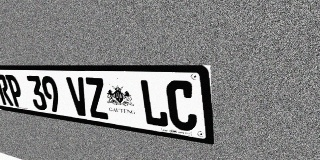3: (26, 75, 48, 111)
9: (40, 76, 63, 113)
C: (165, 80, 198, 132)
L: (139, 79, 169, 128)
P: (5, 75, 25, 108)
R: (0, 74, 14, 106)
V: (66, 77, 91, 117)
Z: (83, 77, 110, 120)
